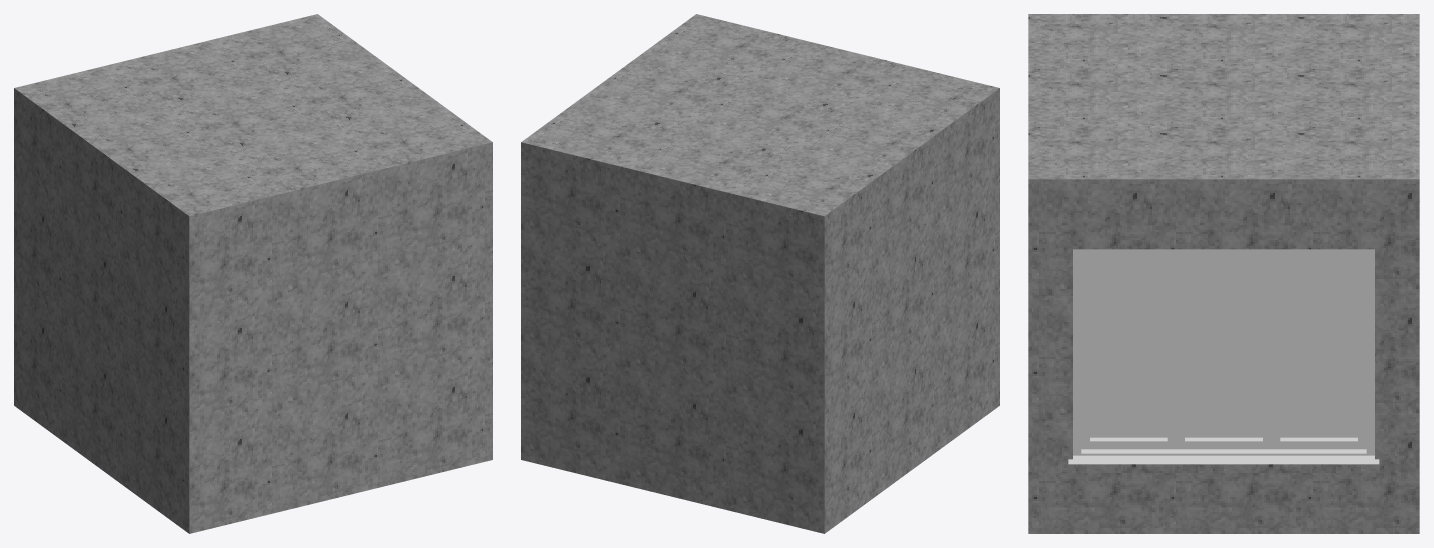
Rendered from Window1.fbx.
3 renders of one model, left to right at view 1: azimuth 30°, elevation 25°; view 2: azimuth 150°, elevation 25°; view 3: azimuth 270°, elevation 25°, orthographic. The views are drawn at different scales.
Visible parts, largest first — view 1: Cube; view 2: Cube; view 3: Cube.
Part boxes in pixels (x1,y1,x2,y2): Cube: (14, 14, 492, 533); Cube: (521, 14, 999, 533); Cube: (1028, 14, 1419, 533).
Size of the model in its own units: 206 by 200 by 200.
